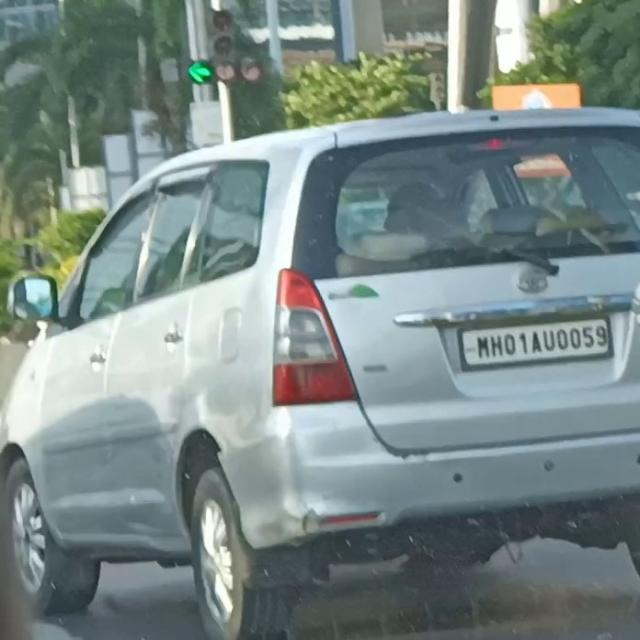Plate: (462, 319, 610, 359)
